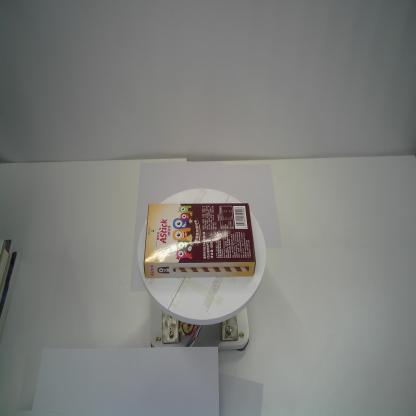Dessert: (141, 200, 257, 282)
